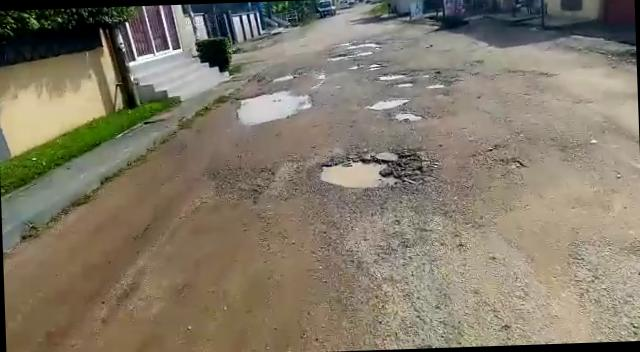pothole: (309, 146, 436, 194), (238, 91, 316, 123), (363, 95, 407, 110), (386, 109, 426, 123), (324, 52, 370, 62), (376, 71, 416, 80), (350, 62, 388, 70), (394, 80, 416, 89), (270, 74, 294, 82), (424, 84, 445, 89)
